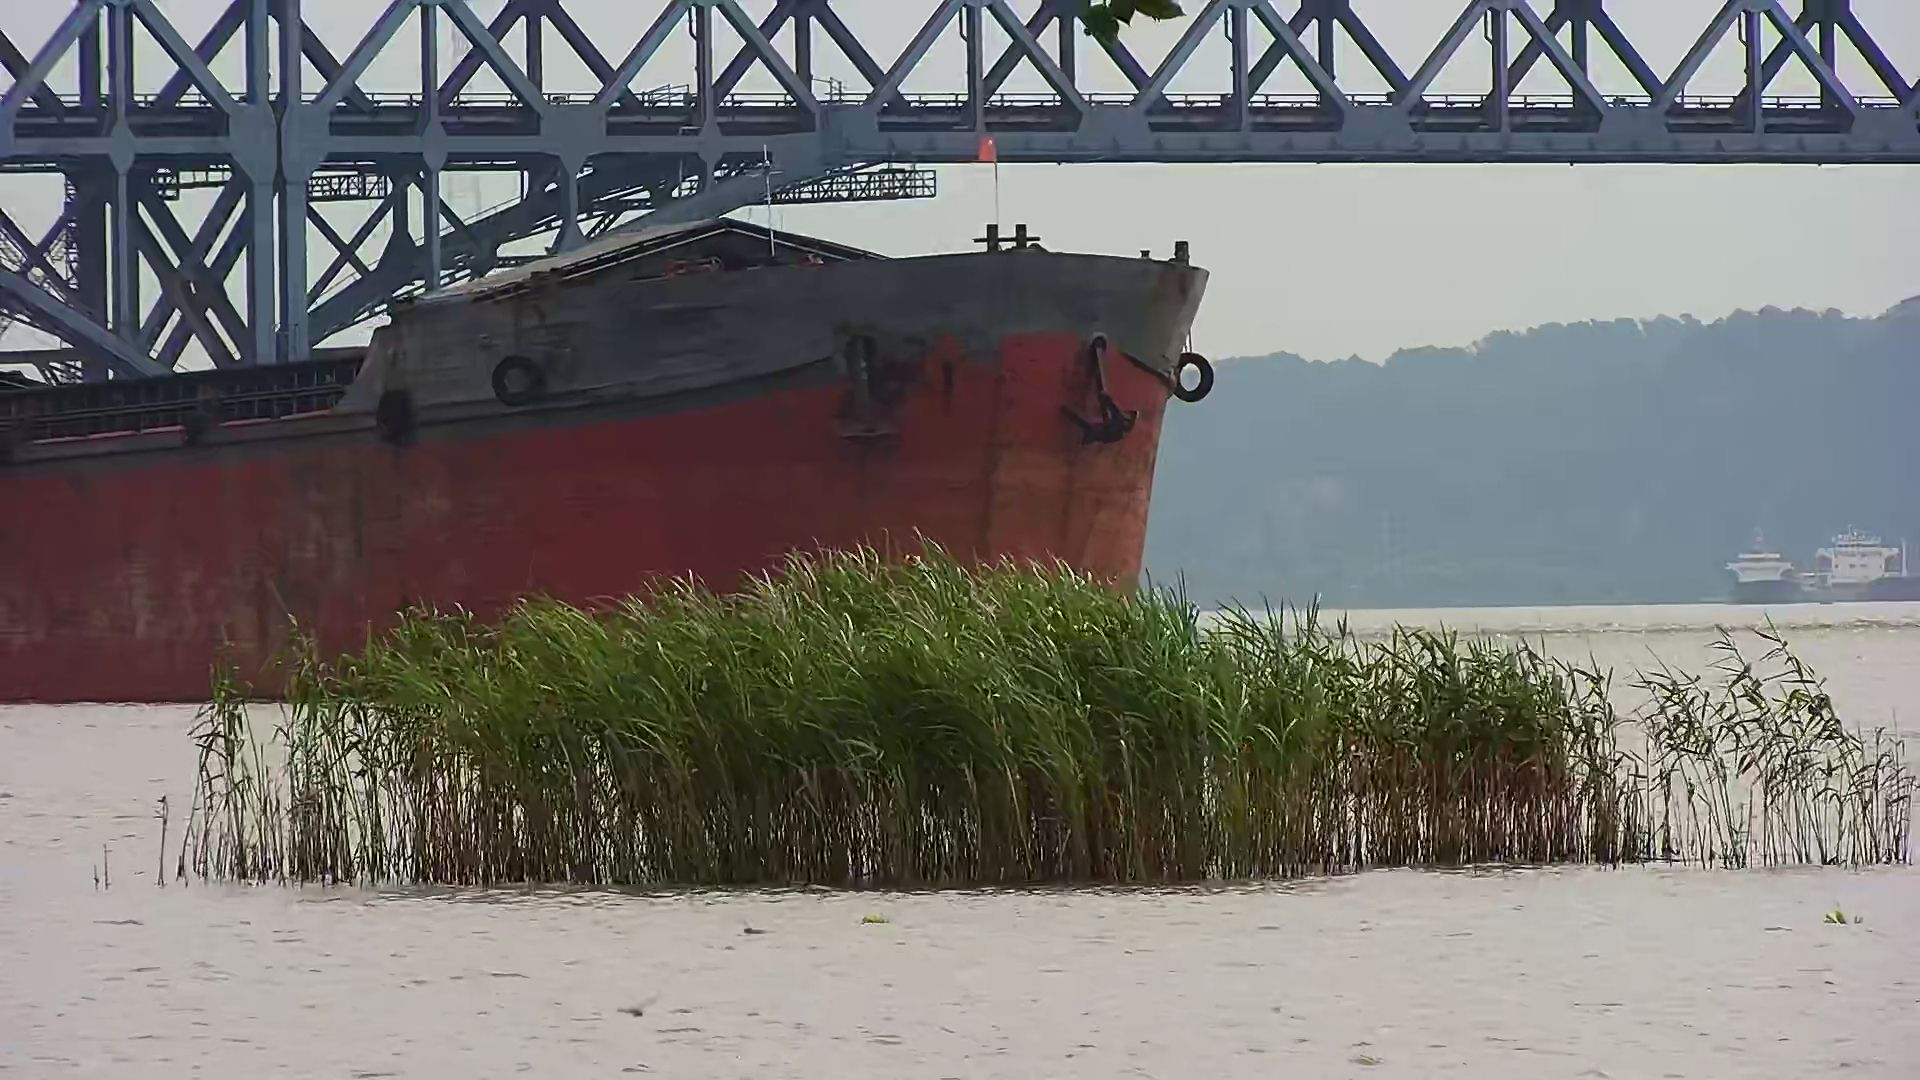bridge: (1, 4, 1917, 378)
grass: (154, 531, 1920, 891)
ship: (1, 135, 1211, 702)
